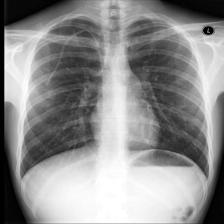normal: (15, 9, 214, 182)
